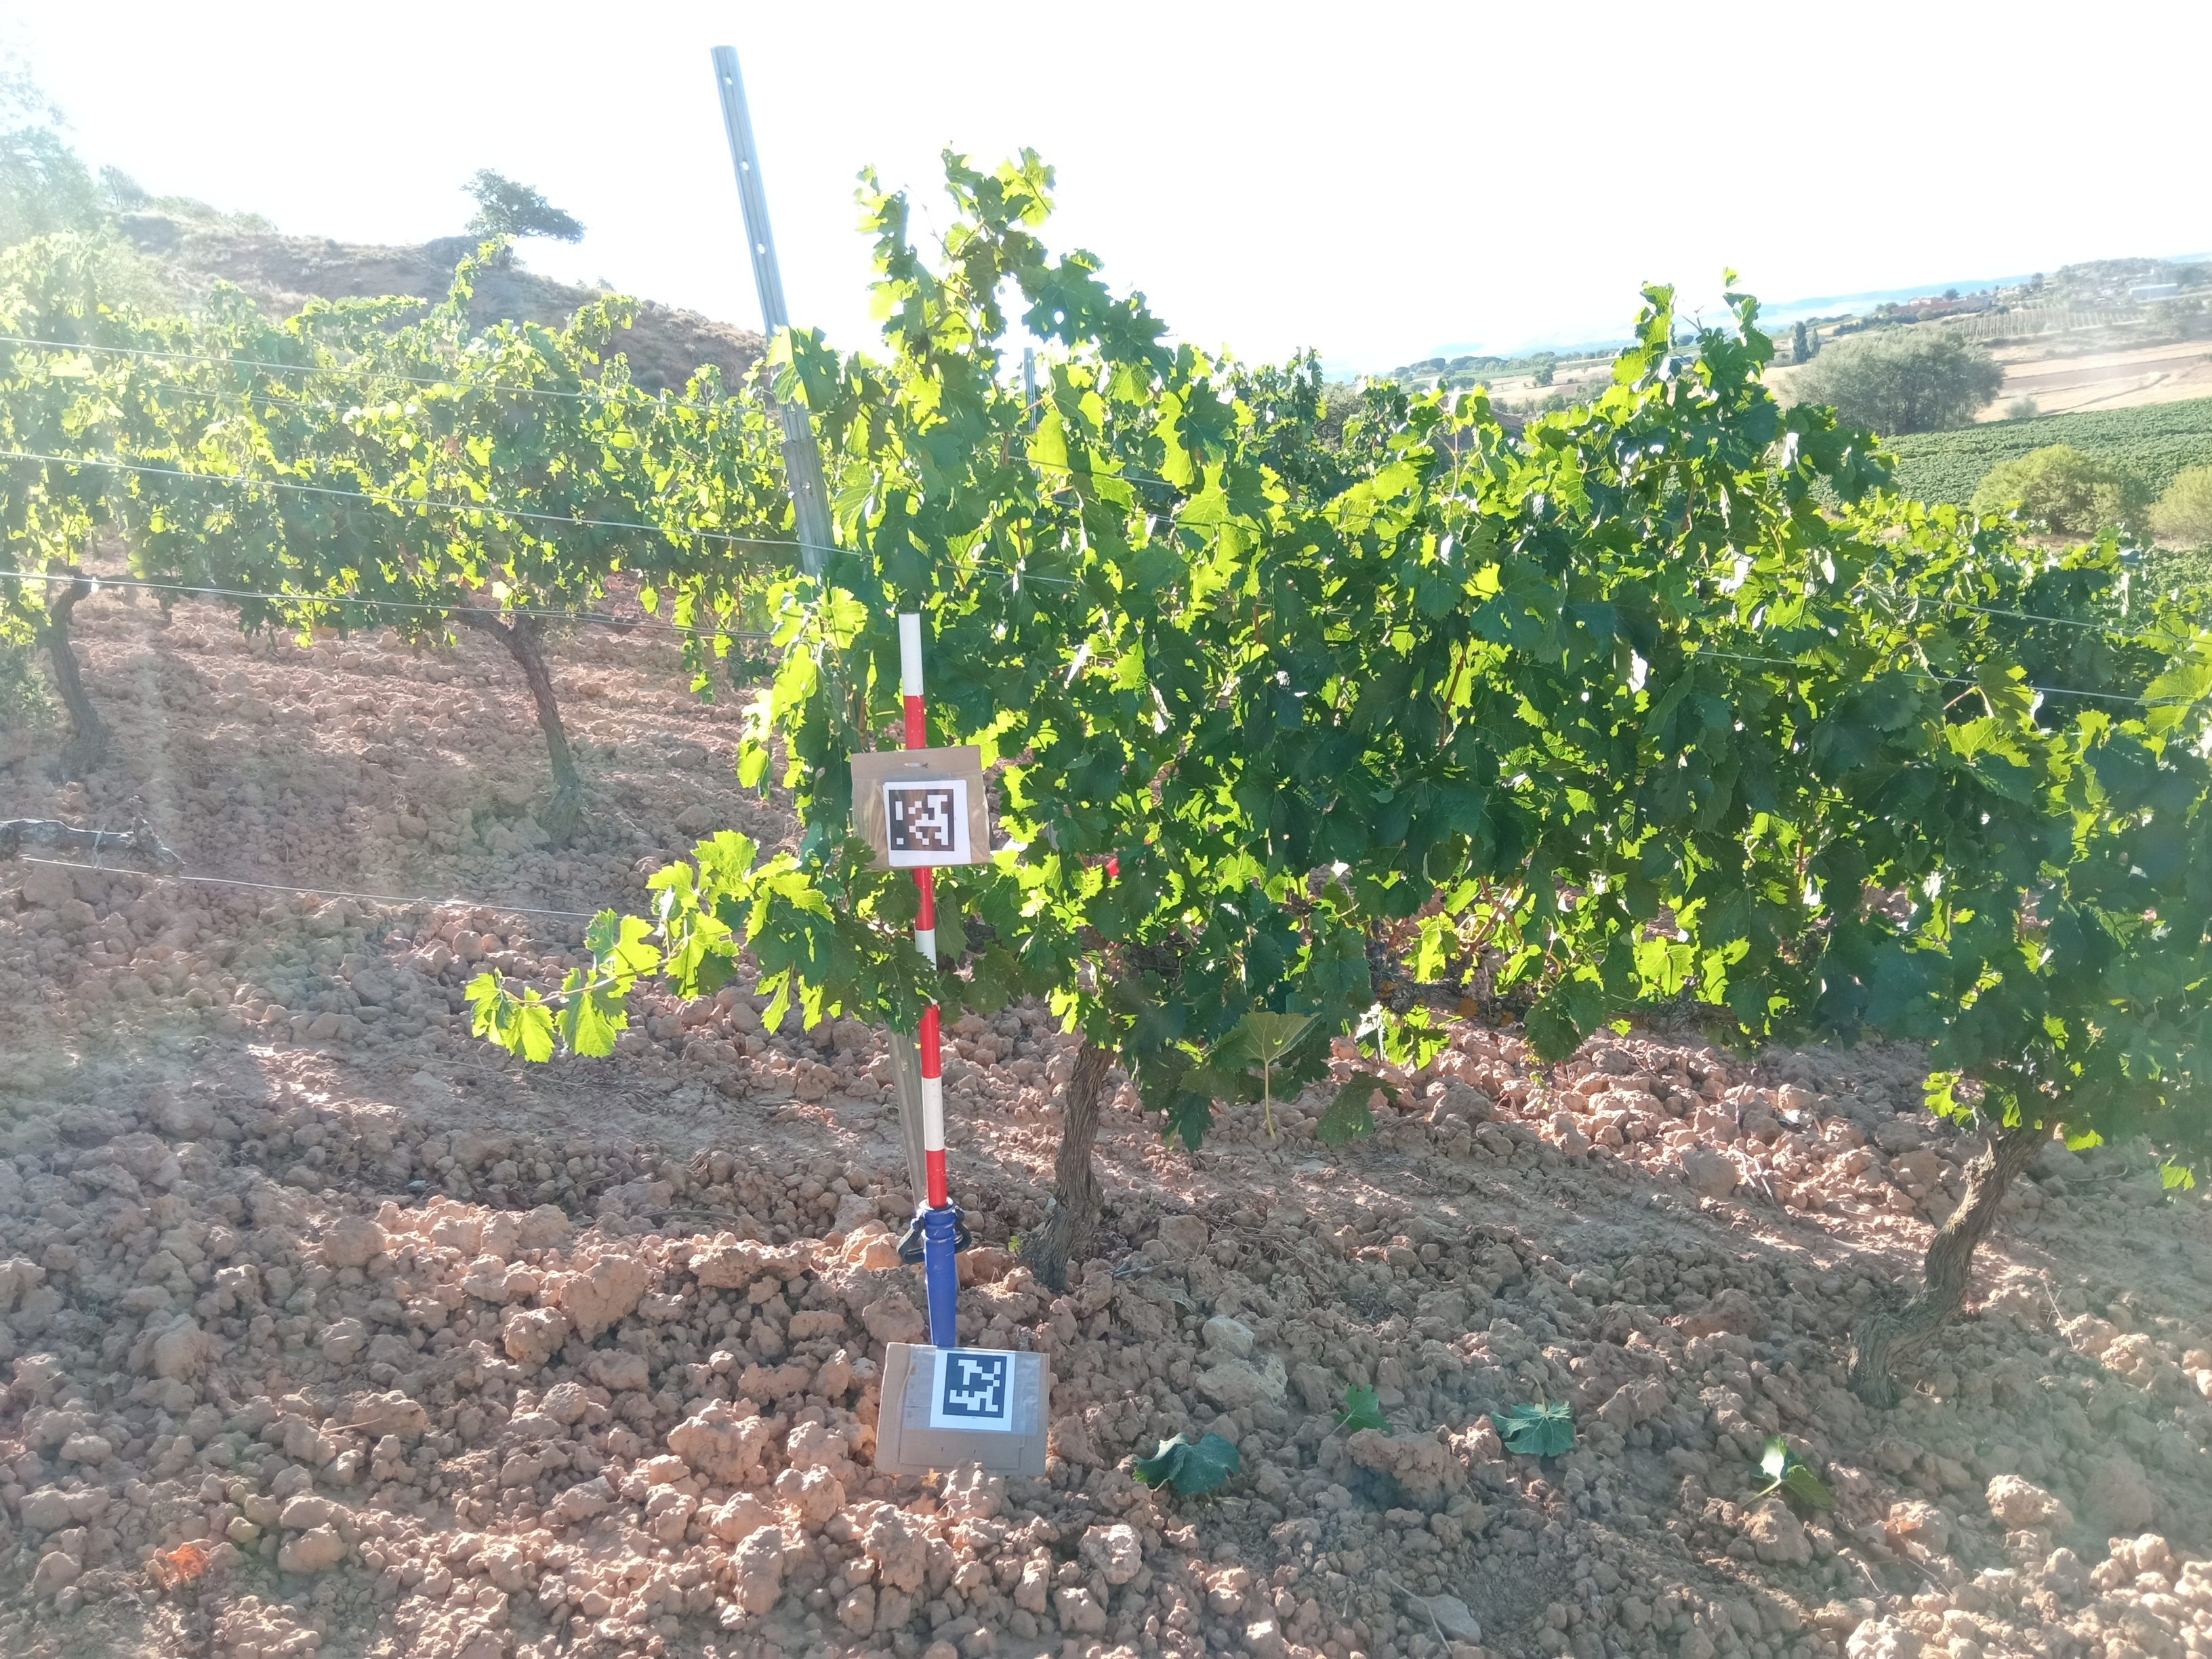grapes: (1482, 985, 1543, 1032), (1785, 929, 1827, 969), (1097, 945, 1141, 983), (1362, 934, 1399, 971), (1446, 951, 1474, 981), (1287, 890, 1317, 917), (1151, 939, 1177, 964)
